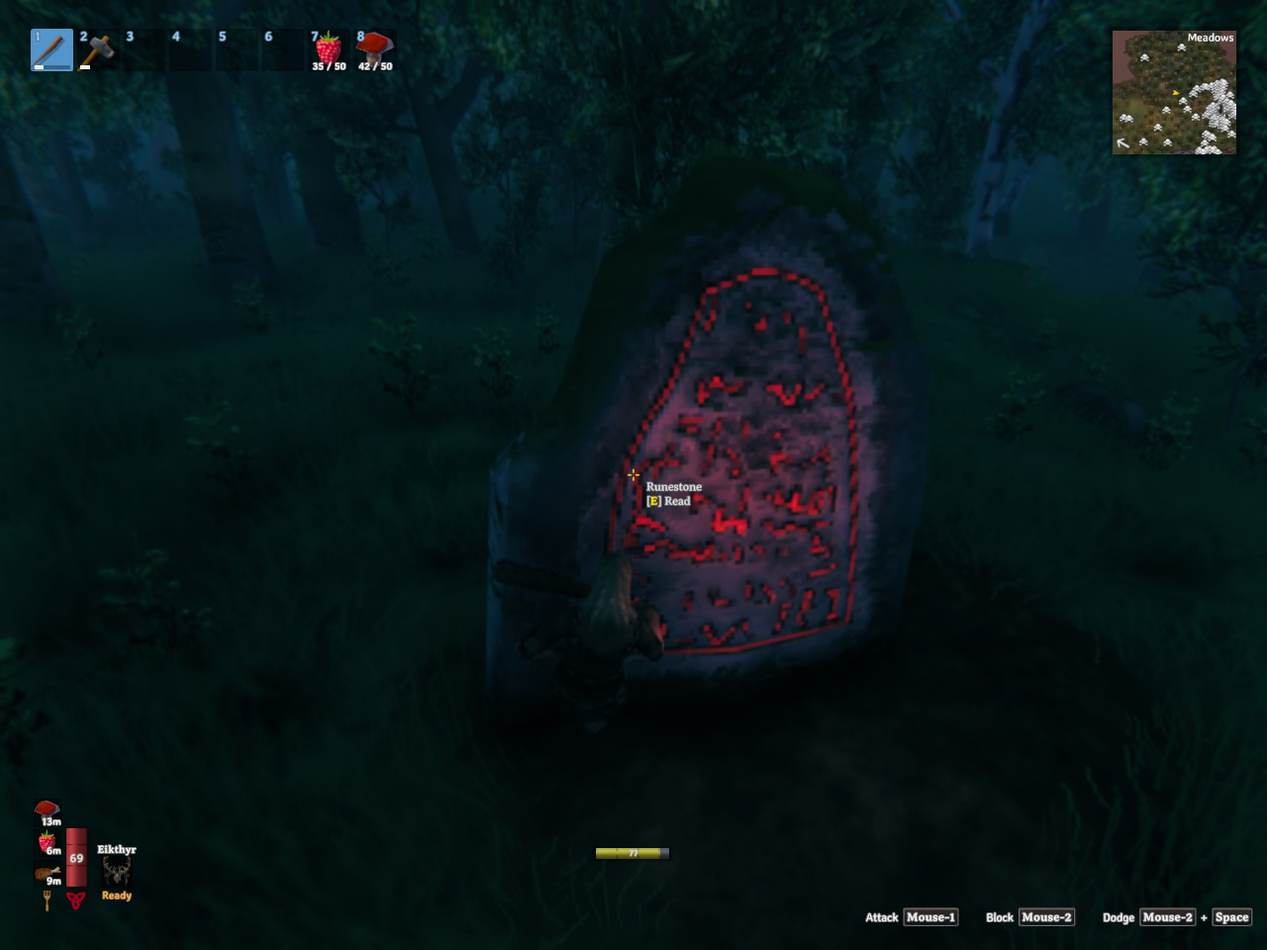Food Indicator: (36, 797, 63, 891)
Health Bar: (63, 820, 90, 891)
Hotbar: (25, 21, 398, 78)
Rune Stone: (486, 159, 928, 713)
Stamina Bar: (591, 844, 708, 862)
